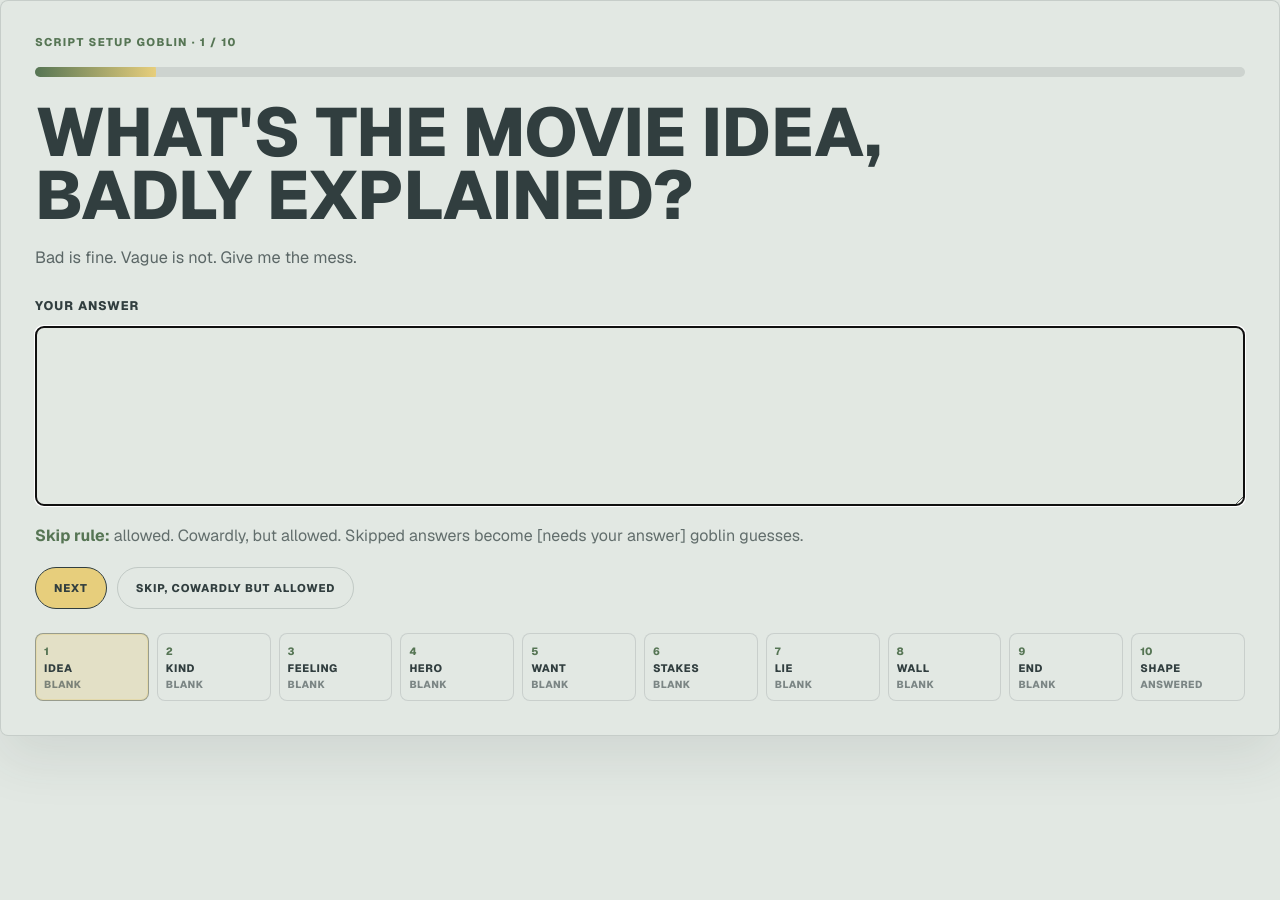
Test: GuidedSetupClient › shows an answer path that can jump back to an earlier setup answer
This screenshot has width=1280, height=900.
Replace the text in the text box labelled "Your answer" with "A one armed man dreams of playing professional baseball." at (640, 416), box [35, 326, 1245, 506]
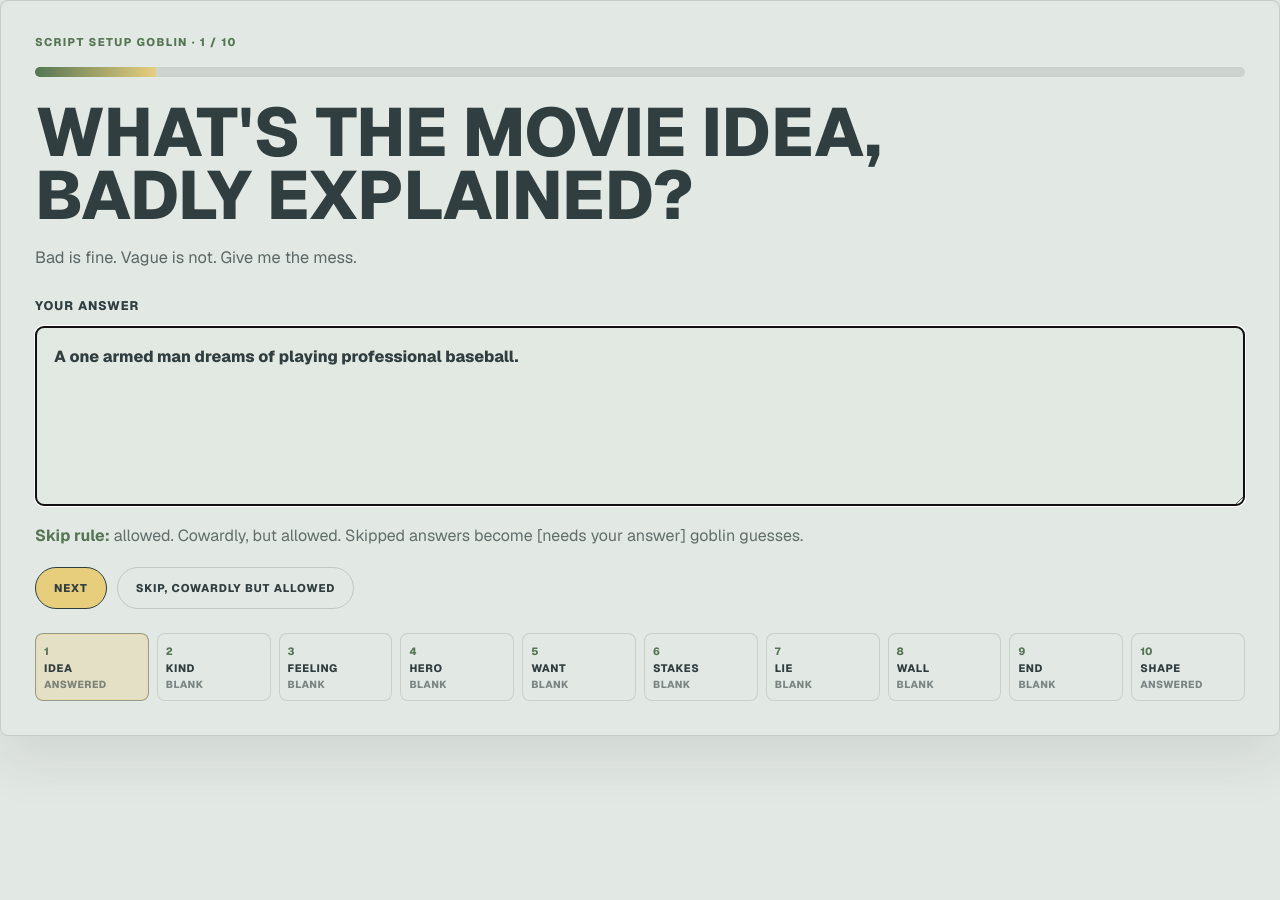
Click the button "Next" at (71, 588), box [35, 567, 107, 609]
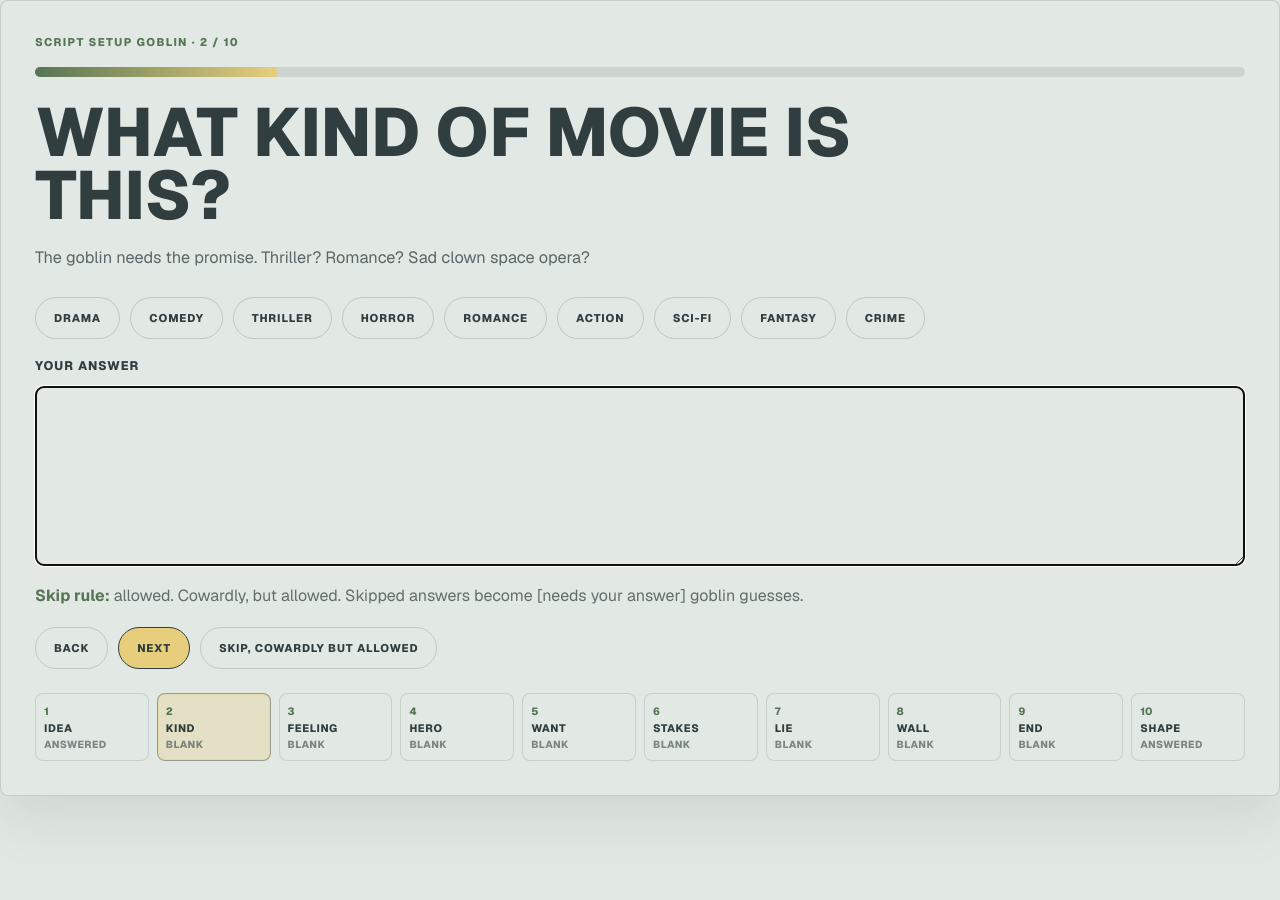
Click the button "Horror" at (388, 318), box [342, 297, 434, 339]
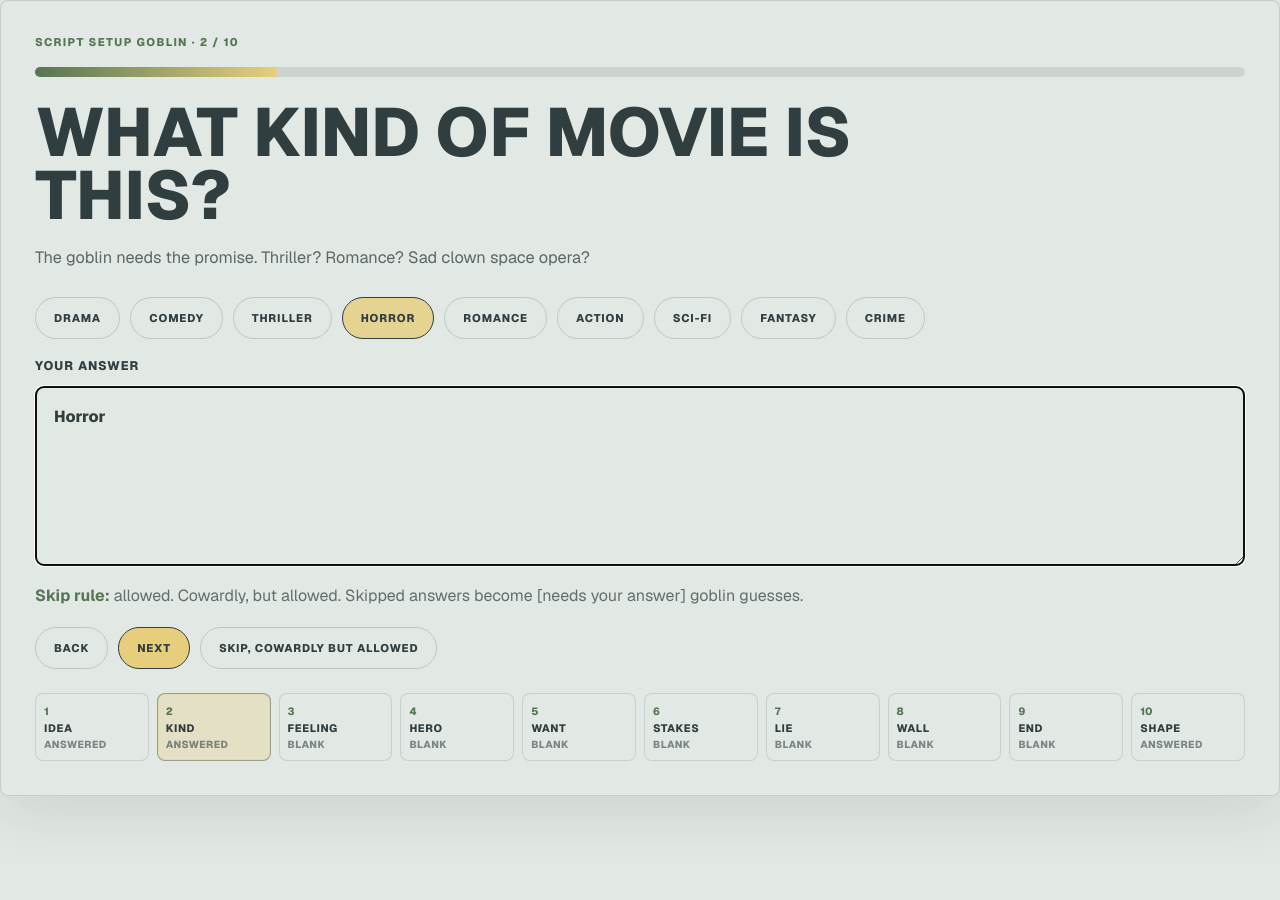
Click the button with aria-label "go to answer 1:" at (92, 727), box [35, 693, 149, 761]
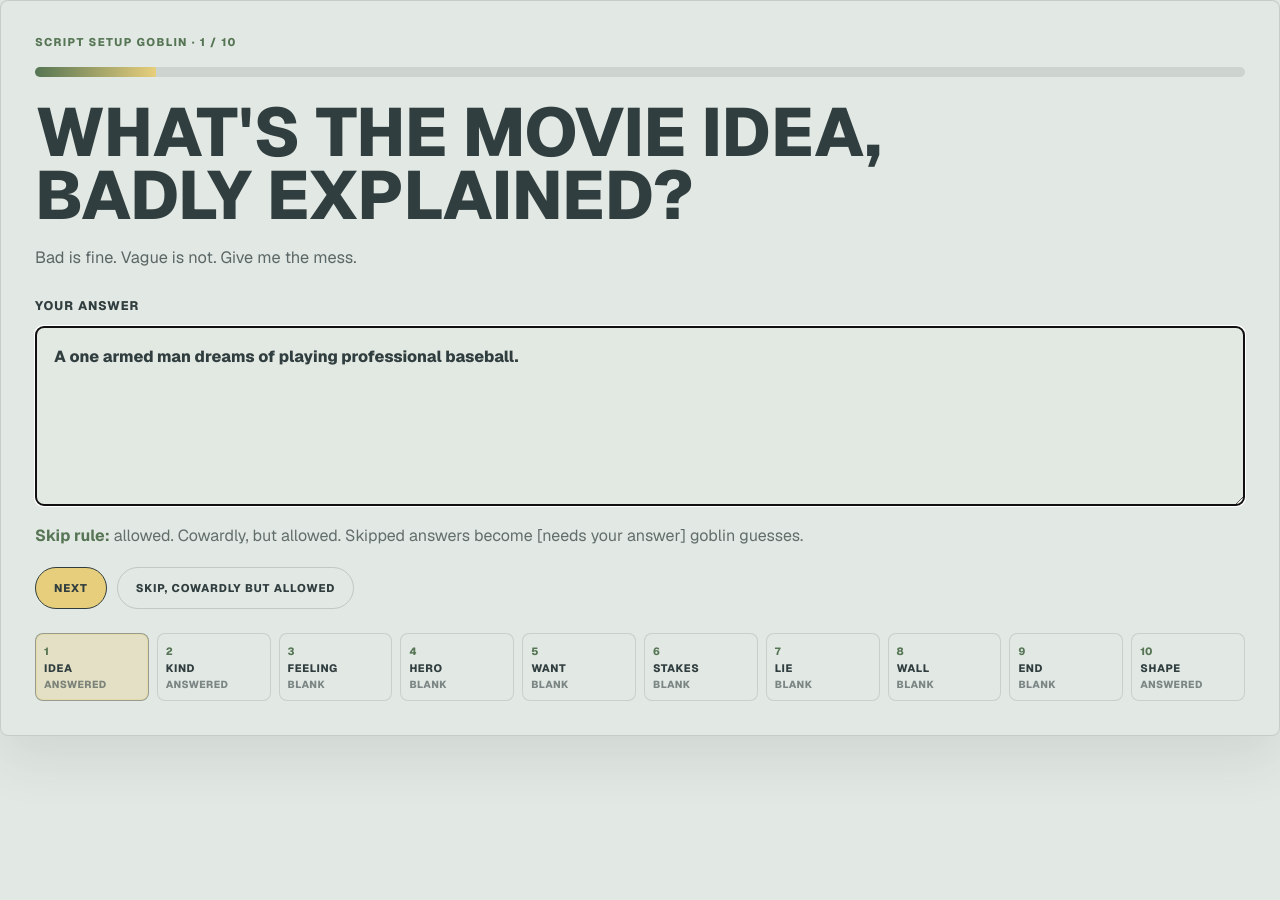
Expected: the heading "What's the movie idea, badly explained?" is shown, [35, 101, 915, 228]
Expected: the text box labelled "Your answer" holds "A one armed man dreams of playing professional baseball.", [35, 326, 1245, 506]
Click the button with aria-label "go to answer 2:" at (214, 667), box [157, 633, 271, 701]
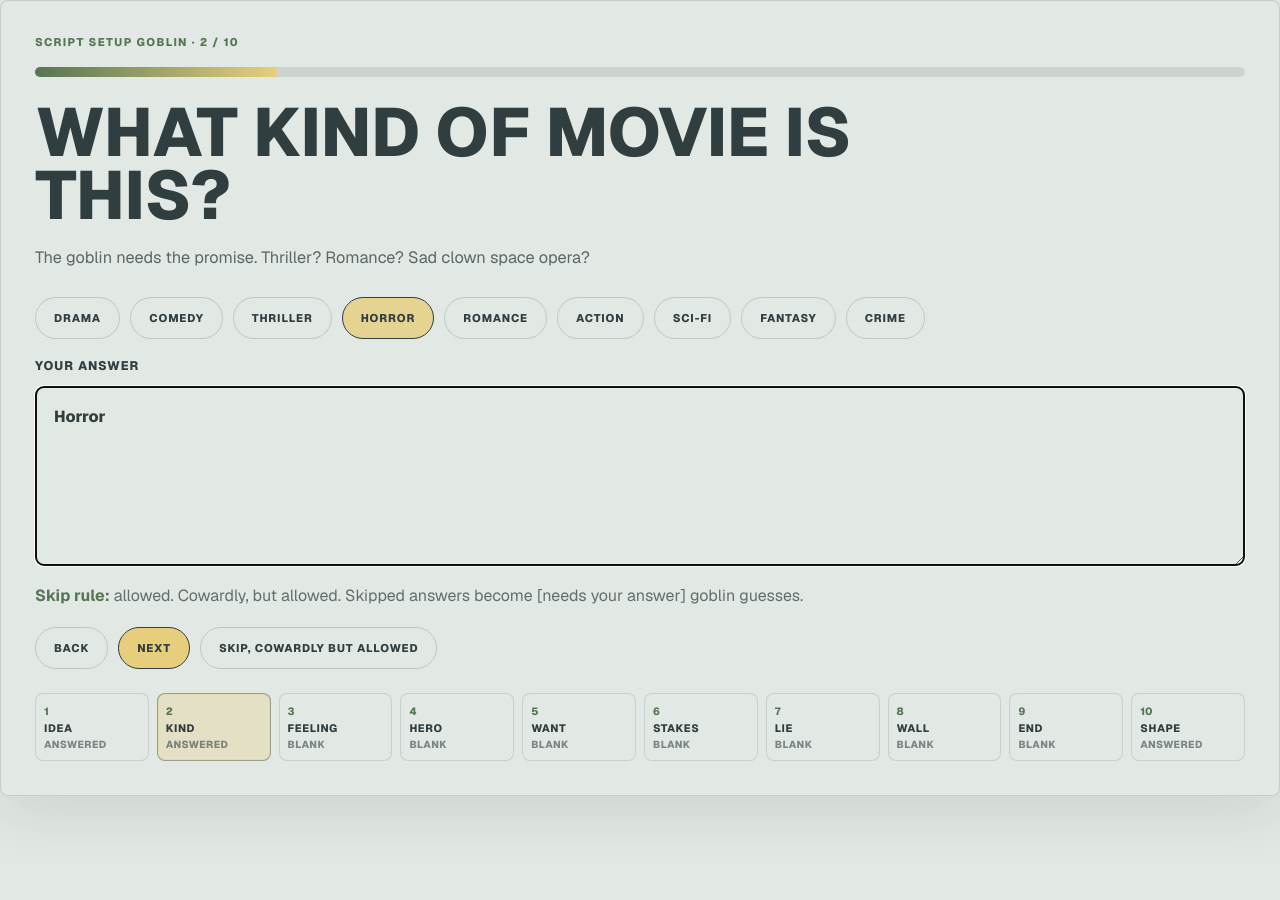
Expected: the heading "What kind of movie is this?" is shown, [35, 101, 915, 228]
Expected: the text box labelled "Your answer" holds "Horror", [35, 386, 1245, 566]
